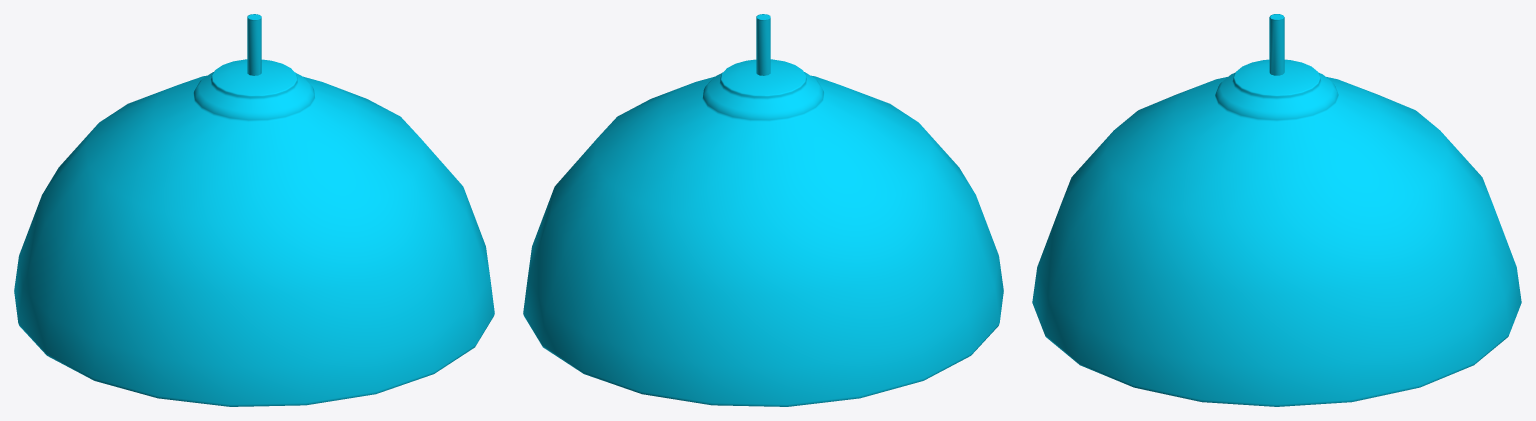
File: Dome_4.fbx
The picture shows the model from 3 angles, left to right: view 1: azimuth 30°, elevation 25°; view 2: azimuth 150°, elevation 25°; view 3: azimuth 270°, elevation 25°; orthographic projection.
Visible parts, largest first — view 1: Dome_4; view 2: Dome_4; view 3: Dome_4.
Part boxes in pixels (bbox=[...]): Dome_4: bbox=[14, 14, 494, 406]; Dome_4: bbox=[523, 14, 1003, 406]; Dome_4: bbox=[1032, 14, 1521, 406].
Bounding box in the file's own units: 20.69 × 13.66 × 21.
